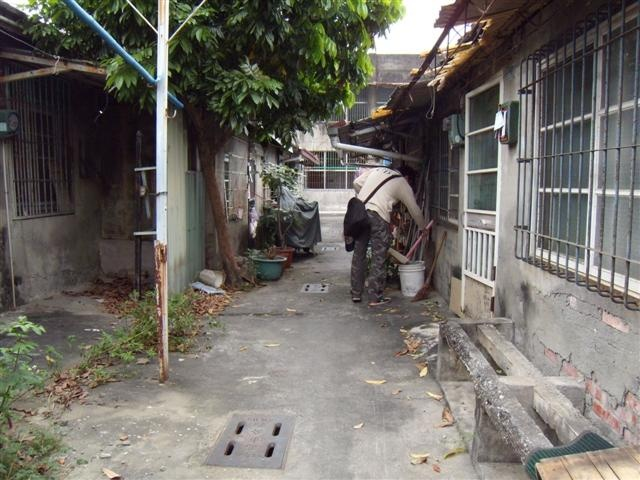bucket: (397, 258, 429, 299)
plastic_bag: (275, 185, 321, 249)
